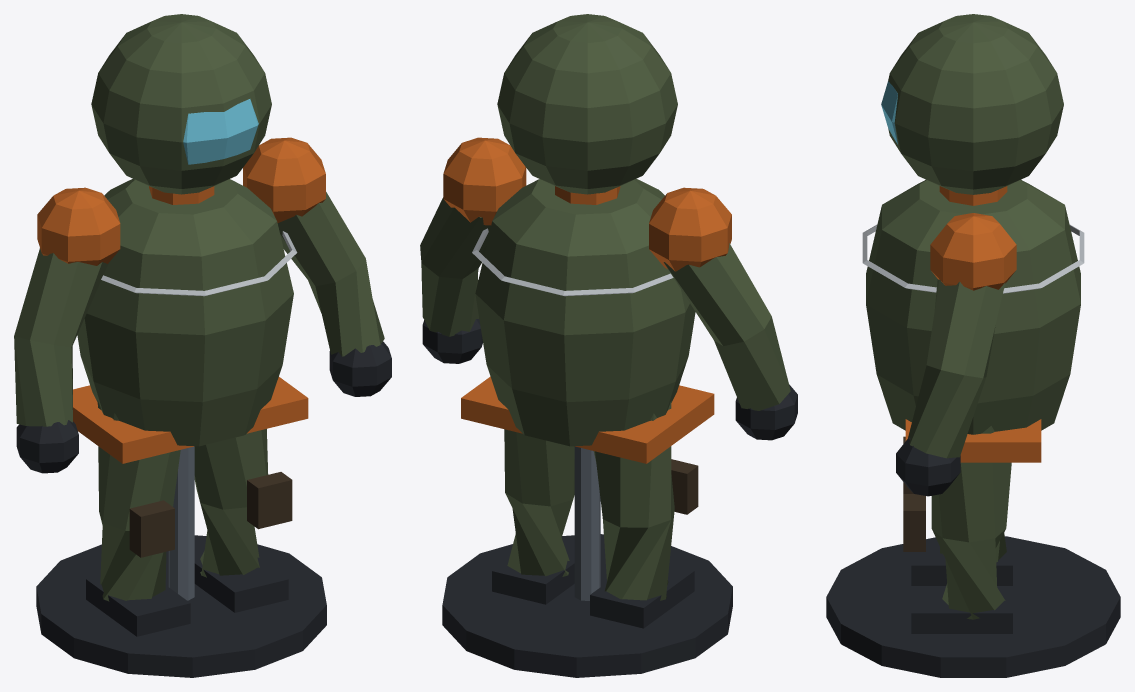
Rendered from flightsuit.glb.
3 views of the same model, side by side, from view 1: azimuth 30°, elevation 25°; view 2: azimuth 150°, elevation 25°; view 3: azimuth 270°, elevation 25° (orthographic).
Visible parts, largest first — view 1: m; view 2: m; view 3: m.
Boxes of the visible parts, box(x1,y1,x2,y2) form: m: box(14, 14, 391, 677); m: box(420, 14, 797, 677); m: box(826, 14, 1120, 677).
Size of the model in its own units: 0.3641 by 0.56 by 0.251.
